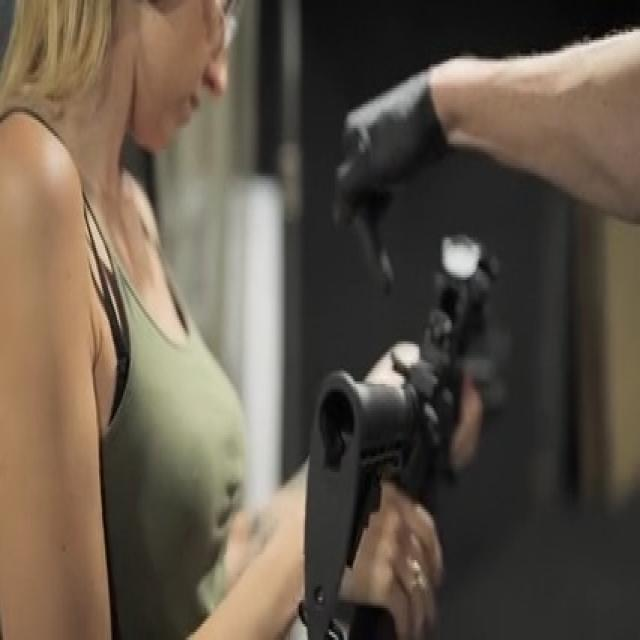Gun_Holder: (264, 207, 576, 627)
Person: (0, 0, 438, 640)
